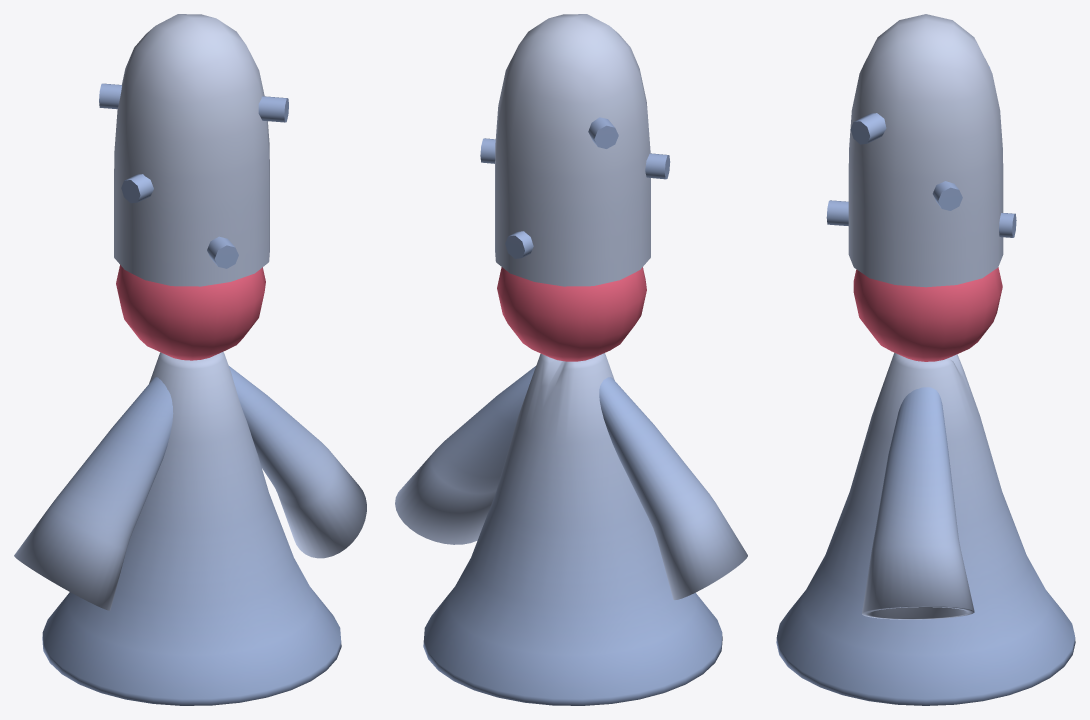
File: mdl_player.fbx
3 renders of one model, left to right at view 1: azimuth 30°, elevation 25°; view 2: azimuth 150°, elevation 25°; view 3: azimuth 270°, elevation 25°, orthographic.
Parts seen in each view (by area): view 1: mdl_player; view 2: mdl_player; view 3: mdl_player.
Boxes of the visible parts, bbox=[...] form: mdl_player: bbox=[14, 14, 366, 705]; mdl_player: bbox=[395, 14, 747, 705]; mdl_player: bbox=[776, 14, 1075, 705].
Size of the model in its own units: 1.18 by 2.13 by 0.9227.
